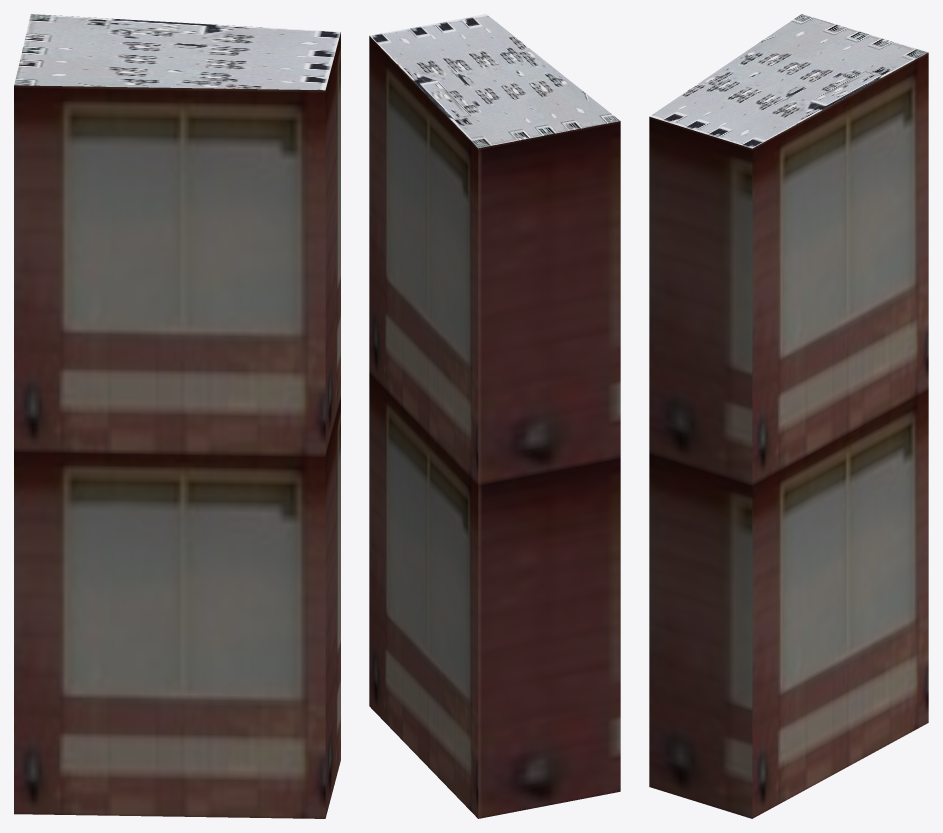
File: ResTex__4346.fbx
3 views of the same model, side by side, from view 1: azimuth 30°, elevation 25°; view 2: azimuth 150°, elevation 25°; view 3: azimuth 270°, elevation 25° (orthographic). The views are drawn at different scales.
Parts seen in each view (by area): view 1: CityEngineMaterial_13_m, CityEngineMaterial_4_m; view 2: CityEngineMaterial_13_m, CityEngineMaterial_4_m; view 3: CityEngineMaterial_13_m, CityEngineMaterial_4_m.
Part boxes in pixels (left/top/right/bottom): CityEngineMaterial_13_m: left=14, top=32, right=340, bottom=818; CityEngineMaterial_4_m: left=14, top=14, right=340, bottom=90; CityEngineMaterial_13_m: left=369, top=36, right=620, bottom=818; CityEngineMaterial_4_m: left=370, top=14, right=619, bottom=148; CityEngineMaterial_13_m: left=649, top=52, right=928, bottom=818; CityEngineMaterial_4_m: left=650, top=14, right=928, bottom=148.
Size of the model in its own units: 2.58 by 6 by 2.26.
Materials: 2 (2 with a texture image).
